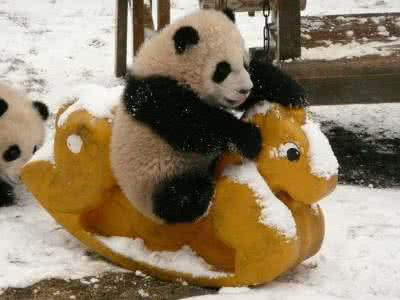panda: (106, 3, 305, 227)
